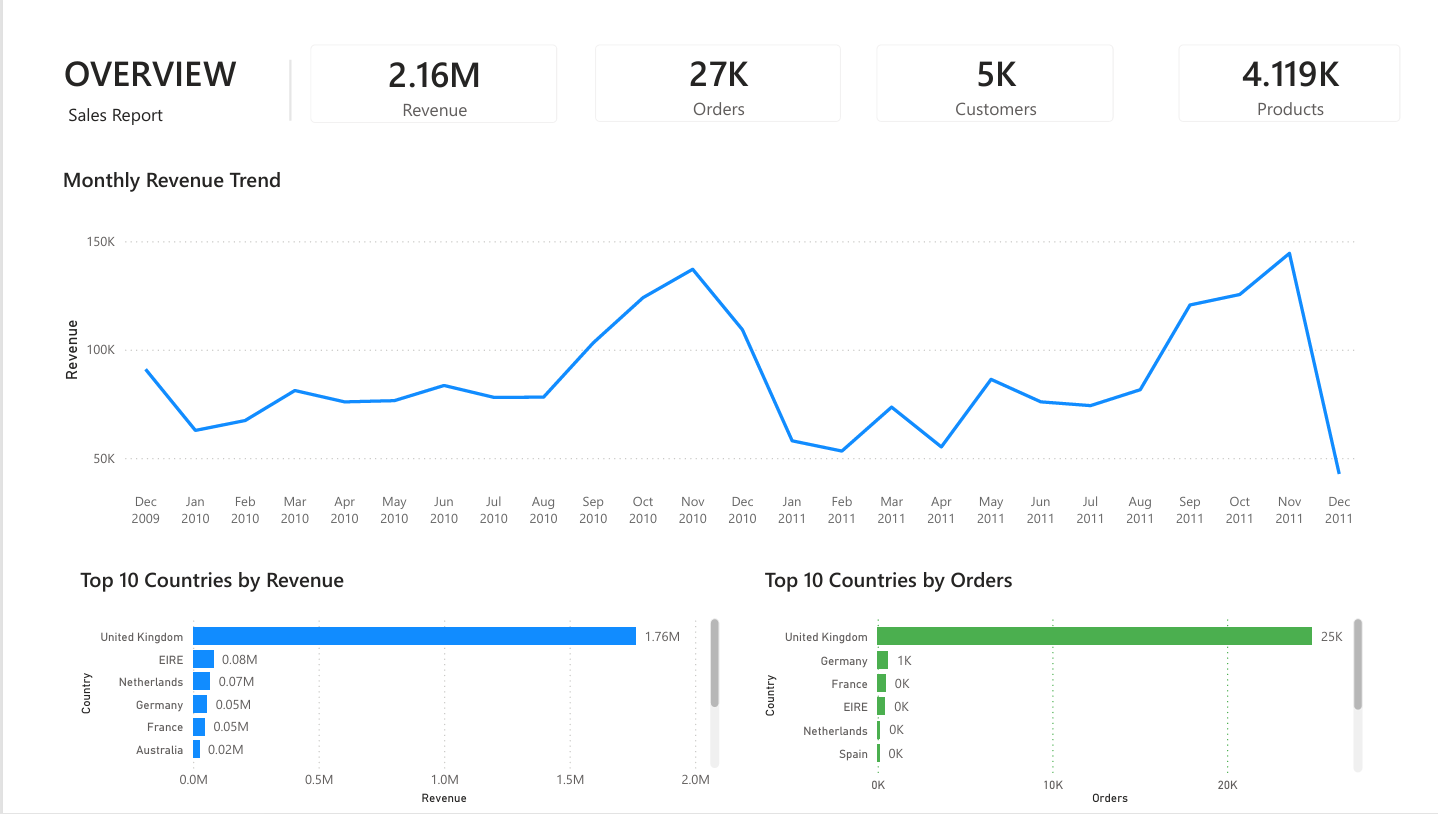

Layout of this report page (visuals, bound fields, positions):
{"tool":"powerbi","page":{"name":"Trang 1","canvas":[1280,720],"ordinal":0},"visuals":[{"type":"cardVisual","fields":{"Data":["Sum(retail_project country_metrics.revenue)"]},"box":[242.2,0,261.1,106.7],"z":0},{"type":"cardVisual","fields":{"Data":["Sum(retail_project country_metrics.orders)"]},"box":[504.3,0,260,105.7],"z":1000},{"type":"cardVisual","fields":{"Data":["Sum(retail_project country_metrics.customers)"]},"box":[763.3,0,252.9,105.7],"z":2000},{"type":"cardVisual","fields":{"Data":["Count(retail_project product_metrics.StockCode)"]},"box":[1041.4,0,238.6,105.7],"z":3000},{"type":"lineChart","title":"Monthly Revenue Trend","fields":{"Category":["retail_project monthly_sales.month_label"],"Y":["Sum(retail_project monthly_sales.revenue)"]},"box":[26,128,1206,340],"z":4000},{"type":"clusteredBarChart","title":"Top 10 Countries by Revenue","fields":{"Category":["retail_project country_metrics.Country"],"Y":["Sum(retail_project country_metrics.revenue)"]},"box":[42,496,598,224],"z":5000},{"type":"clusteredBarChart","title":"Top 10 Countries by Orders","fields":{"Category":["retail_project country_metrics.Country"],"Y":["Sum(retail_project country_metrics.orders)"]},"box":[672,496,560,224],"z":6000},{"type":"textbox","box":[26.9,15.3,216,74],"z":7000},{"type":"textbox","box":[31.2,65,207.5,31.2],"z":8000},{"type":"shape","box":[189.2,30.8,102.5,55.8],"z":9000}]}

Visuals, with their boxes in screenshot pixels (x1, y1, x2, y2), scaled from the page's 1280x720 canvas onto the 1438x814 screenshot:
cardVisual - Sum(retail_project country_metrics.revenue): left=272, top=0, right=565, bottom=121
cardVisual - Sum(retail_project country_metrics.orders): left=567, top=0, right=859, bottom=119
cardVisual - Sum(retail_project country_metrics.customers): left=858, top=0, right=1142, bottom=119
cardVisual - Count(retail_project product_metrics.StockCode): left=1170, top=0, right=1437, bottom=119
"Monthly Revenue Trend" lineChart: left=29, top=145, right=1384, bottom=529
"Top 10 Countries by Revenue" clusteredBarChart: left=47, top=561, right=719, bottom=813
"Top 10 Countries by Orders" clusteredBarChart: left=755, top=561, right=1384, bottom=813
textbox: left=30, top=17, right=273, bottom=101
textbox: left=35, top=73, right=268, bottom=109
shape: left=213, top=35, right=328, bottom=98
